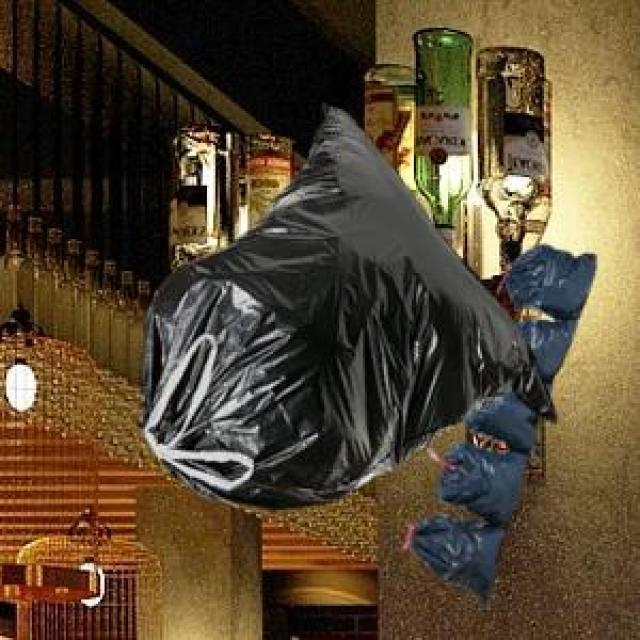waste: (145, 108, 595, 608)
